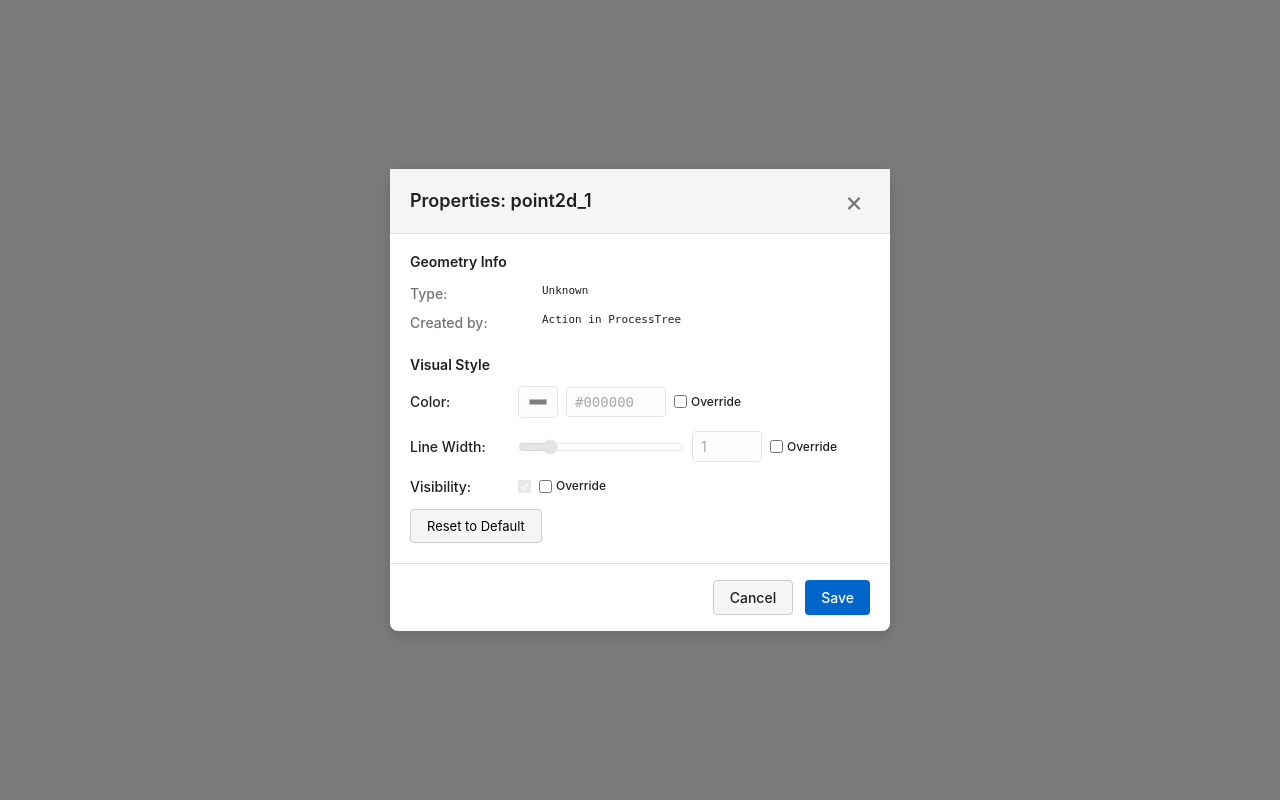
PropertiesDialog › Override checkbox behavior › should enable inputs when override is checked
The width and height of the screenshot is (1280, 800).
// Enable color override
Click the checkbox labelled "Override" in the row of "Color:".
click(680, 402)  # box 674,395 -> 687,408
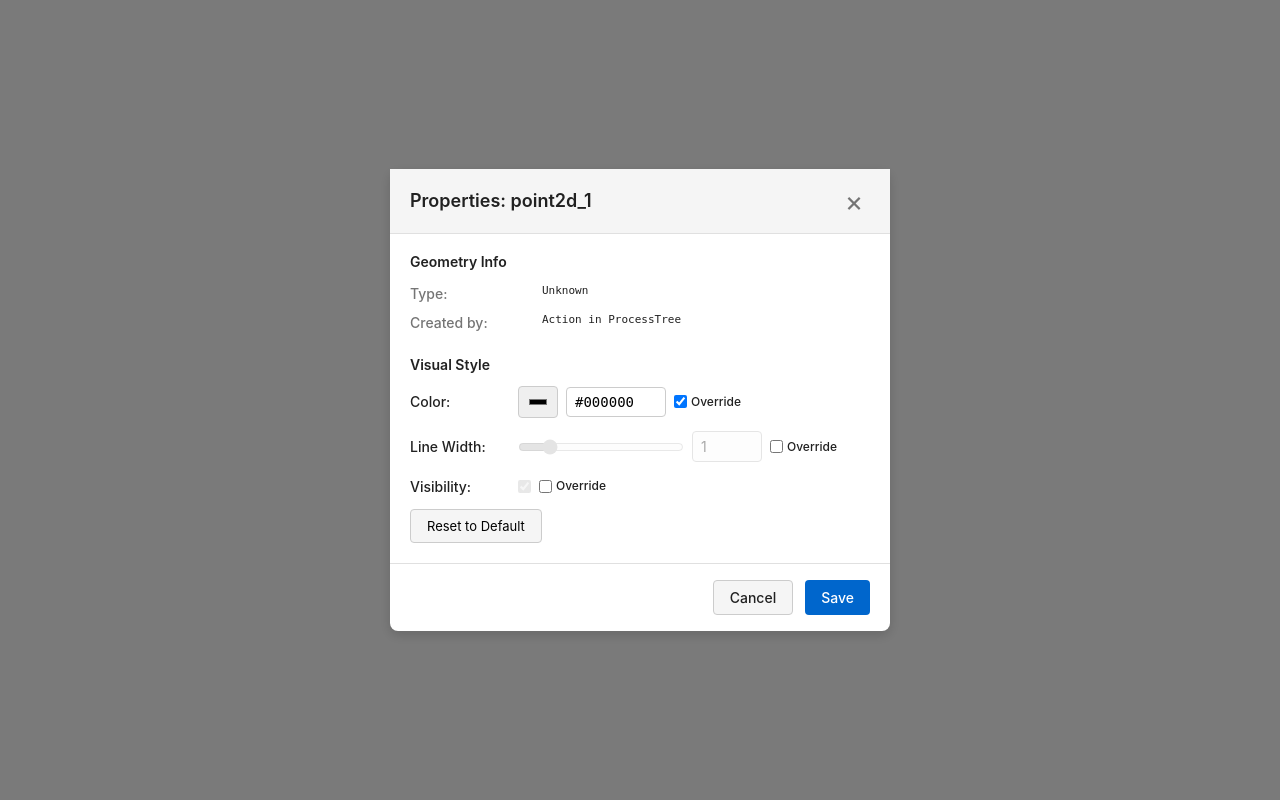
Now the field with class "hex-input" is enabled, box 566,387 -> 666,417
